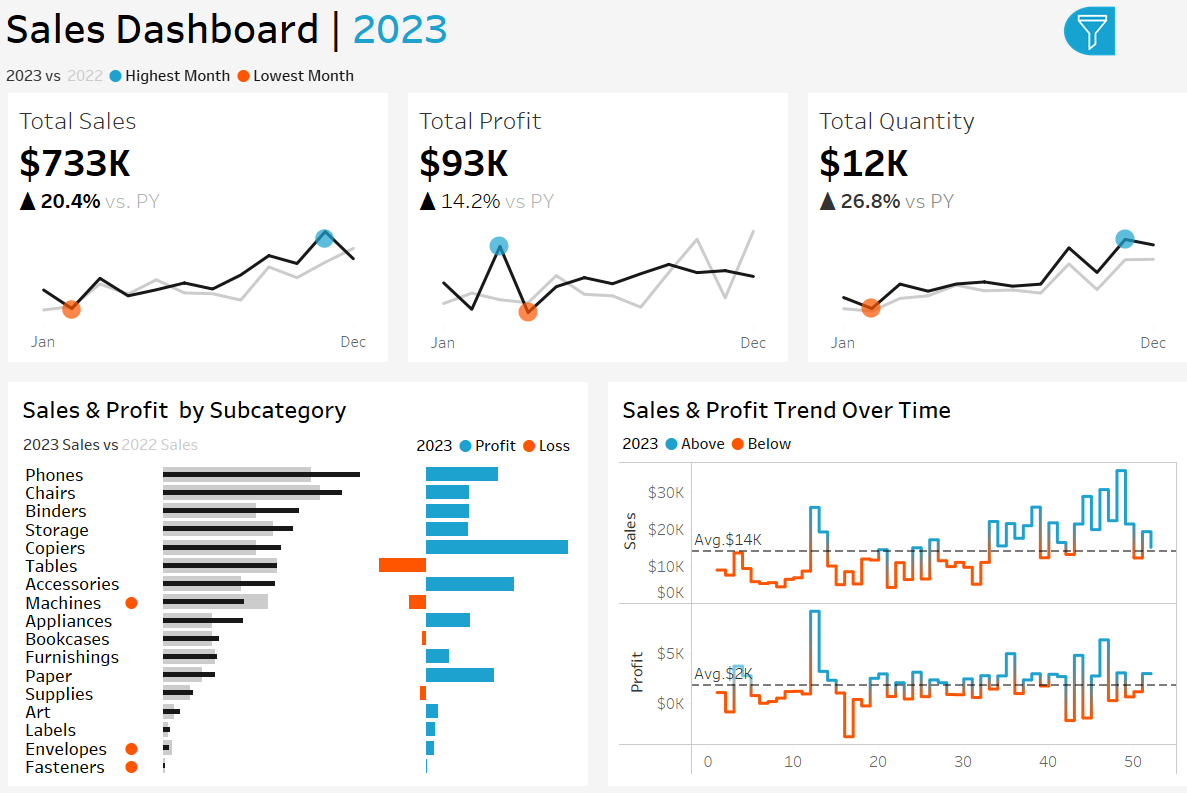

Layout of this report page (visuals, bound fields, positions):
{"tool":"tableau","page":{"name":"Sales Dashboard ","canvas":[1200,800],"ordinal":0},"visuals":[{"type":"text","box":[0,0,1200,62]},{"type":"blank","box":[963,10,224,81]},{"type":"worksheet","title":"Legend KPI","mark":"Automatic","box":[0,62,1200,35]},{"type":"text","box":[963,91,224,85]},{"type":"worksheet","title":"Total Sales","mark":"Automatic","rows":["Calculation_1194861342339567620"],"cols":["Order Date"],"box":[0,97,400,279]},{"type":"worksheet","title":"Total Profit","mark":"Line","cols":["Order Date"],"box":[400,97,400,279]},{"type":"worksheet","title":"Total Quantity","mark":"Automatic","rows":["Calculation_1194861342558232601"],"cols":["Order Date"],"box":[800,97,400,279]},{"type":"parameter","param":"[Parameters].[Parameter 1]","box":[963,176,224,56]},{"type":"blank","box":[963,232,224,32]},{"type":"text","box":[963,264,224,33]},{"type":"filter","title":"Total Sales","param":"[federated.0rrt5hi1ji113913o3vsg00zjdsm].[none:Category:nk]","box":[963,297,224,61]},{"type":"filter","title":"Total Sales","param":"[federated.0rrt5hi1ji113913o3vsg00zjdsm].[none:Sub-Category:nk]","box":[963,358,224,92]},{"type":"text","box":[17,393,566,40]},{"type":"text","box":[617,393,566,40]},{"type":"worksheet","title":"Legend Subcategory","mark":"Automatic","box":[17,433,394,32]},{"type":"text","box":[411,433,172,32]},{"type":"text","box":[617,433,566,29]},{"type":"blank","box":[963,450,224,40]},{"type":"worksheet","title":"Weekly Trends","mark":"Automatic","rows":["Calculation_1194861342332461056","Calculation_1194861342531403787"],"cols":["Order Date"],"box":[617,462,566,321]},{"type":"worksheet","title":"Subcategory Comparison","mark":"Bar","rows":["Sub-Category","Calculation_1194861342616453148"],"cols":["CY Sales (copy)_1194861342332915713","Calculation_1194861342332461056","Calculation_1194861342531403787"],"box":[17,465,566,318]},{"type":"text","box":[963,490,224,33]},{"type":"filter","title":"Total Sales","param":"[federated.0rrt5hi1ji113913o3vsg00zjdsm].[none:Region:nk]","box":[963,523,224,61]},{"type":"filter","title":"Total Sales","param":"[federated.0rrt5hi1ji113913o3vsg00zjdsm].[none:State:nk]","box":[963,584,224,61]},{"type":"filter","title":"Total Sales","param":"[federated.0rrt5hi1ji113913o3vsg00zjdsm].[none:City:nk]","box":[963,645,224,61]}]}

Visuals, with their boxes in screenshot pixels (x1, y1, x2, y2), scaled from the page's 1200x800 canvas onto the 1187x793 screenshot:
text: pyautogui.locateOnScreen(0, 0, 1186, 61)
blank: pyautogui.locateOnScreen(953, 10, 1174, 90)
"Legend KPI" worksheet: pyautogui.locateOnScreen(0, 61, 1186, 96)
text: pyautogui.locateOnScreen(953, 90, 1174, 174)
"Total Sales" worksheet: pyautogui.locateOnScreen(0, 96, 396, 373)
"Total Profit" worksheet (Line marks): pyautogui.locateOnScreen(396, 96, 791, 373)
"Total Quantity" worksheet: pyautogui.locateOnScreen(791, 96, 1186, 373)
parameter: pyautogui.locateOnScreen(953, 174, 1174, 230)
blank: pyautogui.locateOnScreen(953, 230, 1174, 262)
text: pyautogui.locateOnScreen(953, 262, 1174, 294)
"Total Sales" filter: pyautogui.locateOnScreen(953, 294, 1174, 355)
"Total Sales" filter: pyautogui.locateOnScreen(953, 355, 1174, 446)
text: pyautogui.locateOnScreen(17, 390, 577, 429)
text: pyautogui.locateOnScreen(610, 390, 1170, 429)
"Legend Subcategory" worksheet: pyautogui.locateOnScreen(17, 429, 407, 461)
text: pyautogui.locateOnScreen(407, 429, 577, 461)
text: pyautogui.locateOnScreen(610, 429, 1170, 458)
blank: pyautogui.locateOnScreen(953, 446, 1174, 486)
"Weekly Trends" worksheet: pyautogui.locateOnScreen(610, 458, 1170, 776)
"Subcategory Comparison" worksheet (Bar marks): pyautogui.locateOnScreen(17, 461, 577, 776)
text: pyautogui.locateOnScreen(953, 486, 1174, 518)
"Total Sales" filter: pyautogui.locateOnScreen(953, 518, 1174, 579)
"Total Sales" filter: pyautogui.locateOnScreen(953, 579, 1174, 639)
"Total Sales" filter: pyautogui.locateOnScreen(953, 639, 1174, 700)
